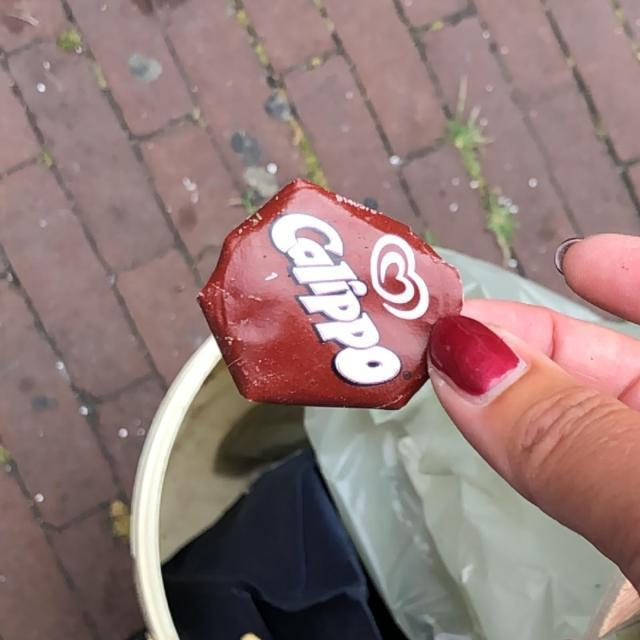Paper: (192, 172, 466, 415)
